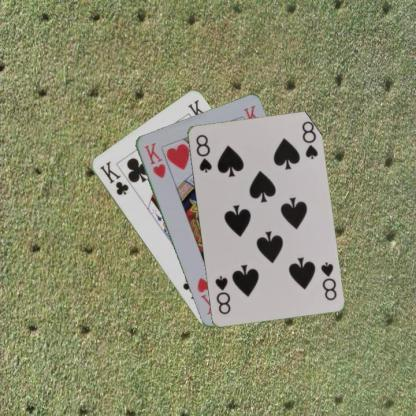8s: (193, 131, 213, 173), (318, 260, 338, 302)
Kc: (97, 158, 129, 196)
Kh: (141, 139, 167, 181)
